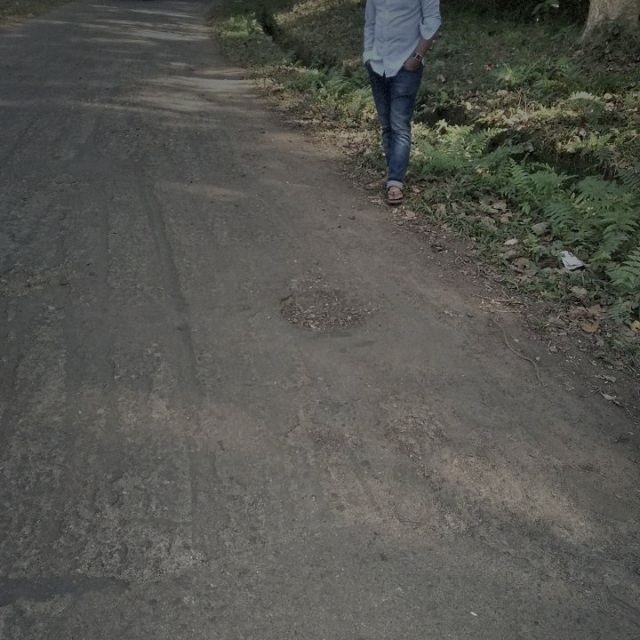pothole: (276, 285, 368, 335)
